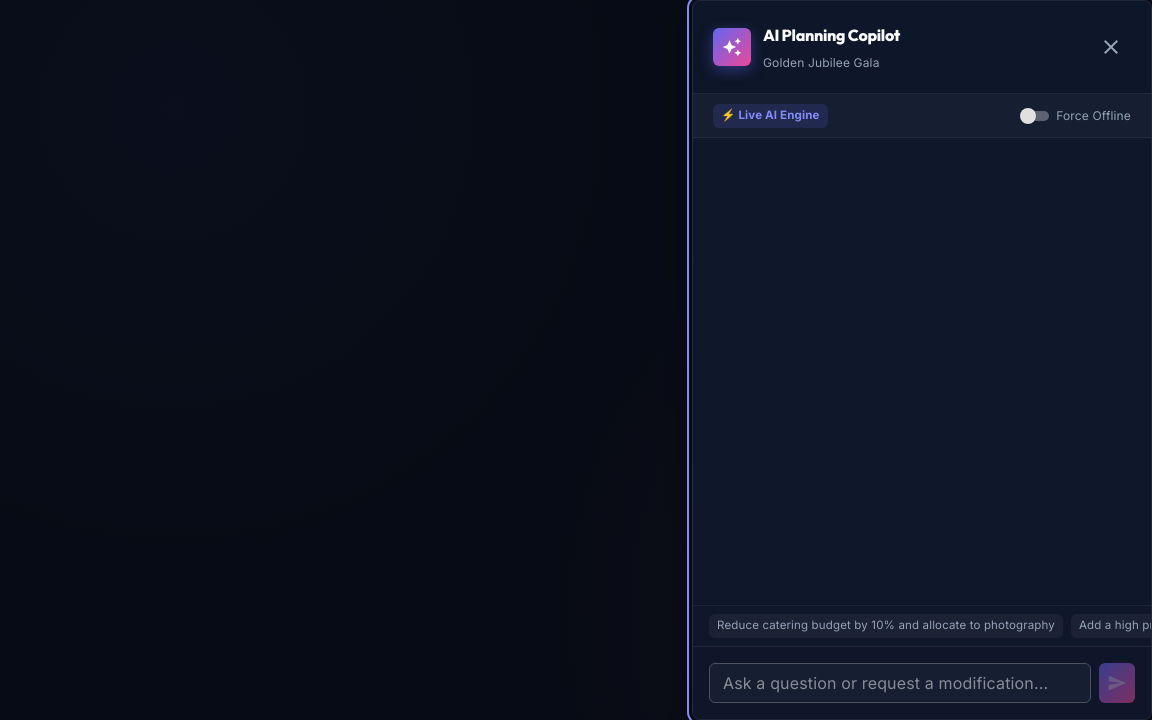
Scenario: AssistantDrawer Component › submits message and renders assistant reply with proposal card
Type "Reduce catering by 500 and allocate to photography" into the field with placeholder "Ask a question or request a modification...".
click(900, 683); type("Reduce catering by 500 and allocate to photography")  # box [709,663,1091,703]
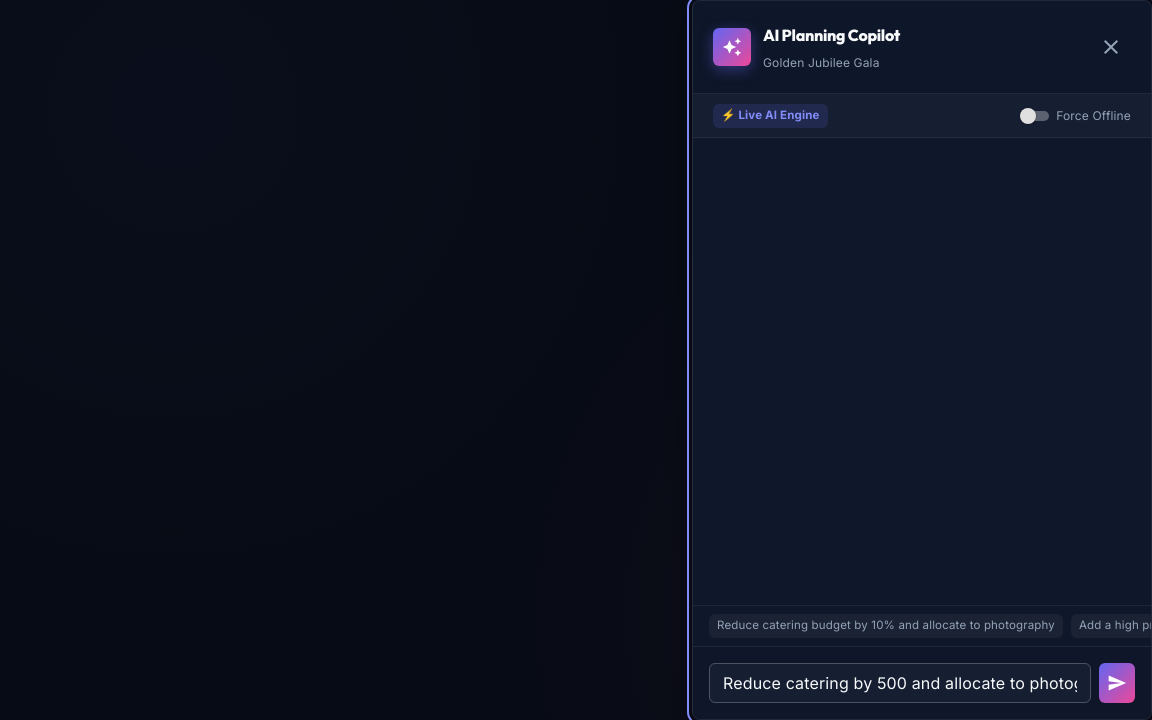
Click the button named "Send message".
click(1117, 683)  # box [1099,663,1135,703]
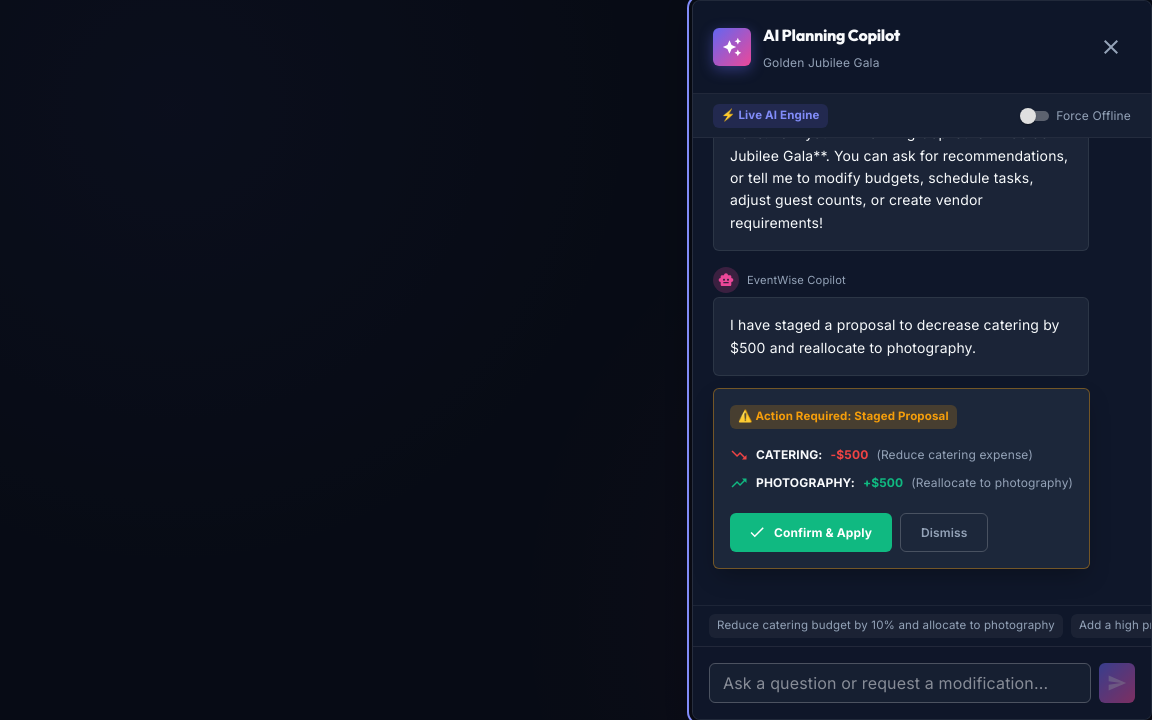
Result: the text "I have staged a proposal to decrease catering by $500 and reallocate to photography." is shown at [730,316,1064,356]
Result: the text "⚠️ Action Required: Staged Proposal" is shown at [730,408,957,426]
Result: the button "Confirm & Apply" is shown at [730,513,892,552]
